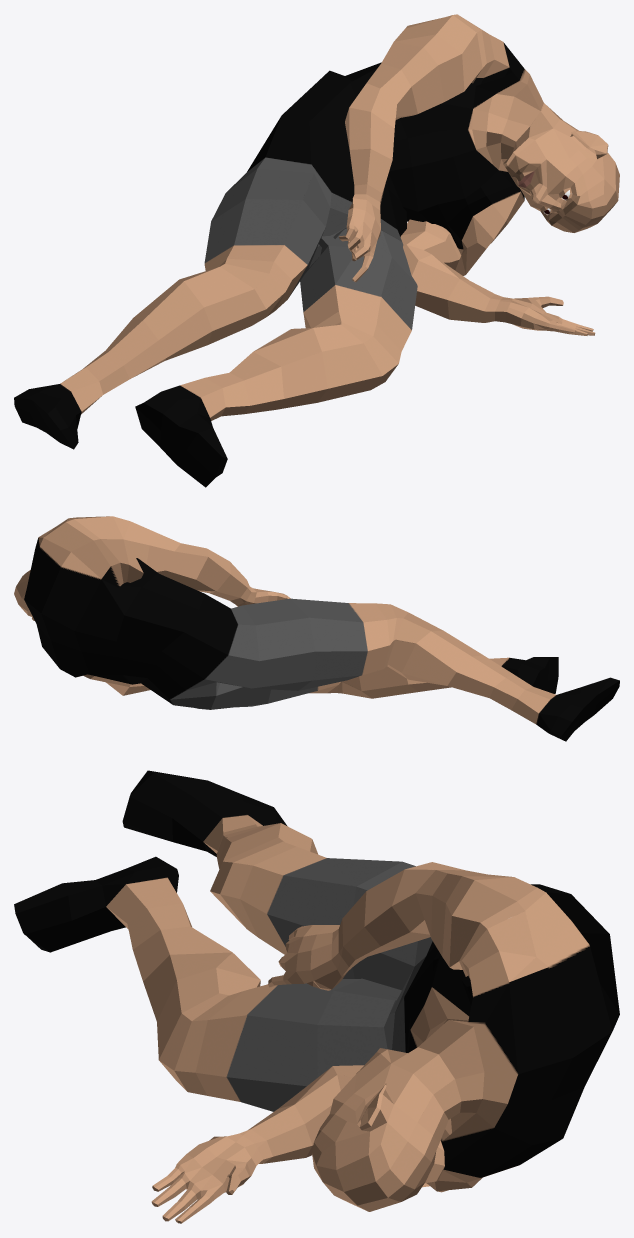
The model's file is PlayerDead(91).obj.
The picture shows the model from 3 angles, top to bottom: view 1: azimuth 30°, elevation 25°; view 2: azimuth 150°, elevation 25°; view 3: azimuth 270°, elevation 25°; orthographic projection. The views are drawn at different scales.
Visible parts, largest first — view 1: Plane002; view 2: Plane002; view 3: Plane002.
Part boxes in pixels (x1=…): Plane002: x1=14, y1=14, x2=619, y2=487; Plane002: x1=14, y1=516, x2=619, y2=741; Plane002: x1=14, y1=770, x2=619, y2=1223.
Size of the model in its own units: 1575 by 553 by 925.
